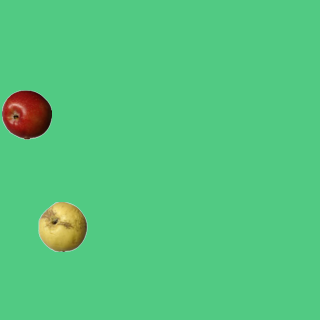Apple Braeburn: (1, 89, 51, 139)
Apple Golden 1: (37, 201, 87, 251)
